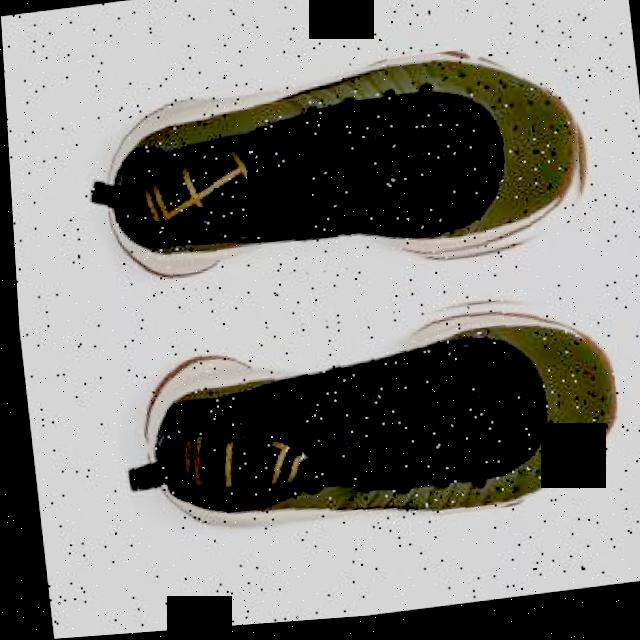shoe: (108, 286, 622, 556), (93, 44, 594, 305)
